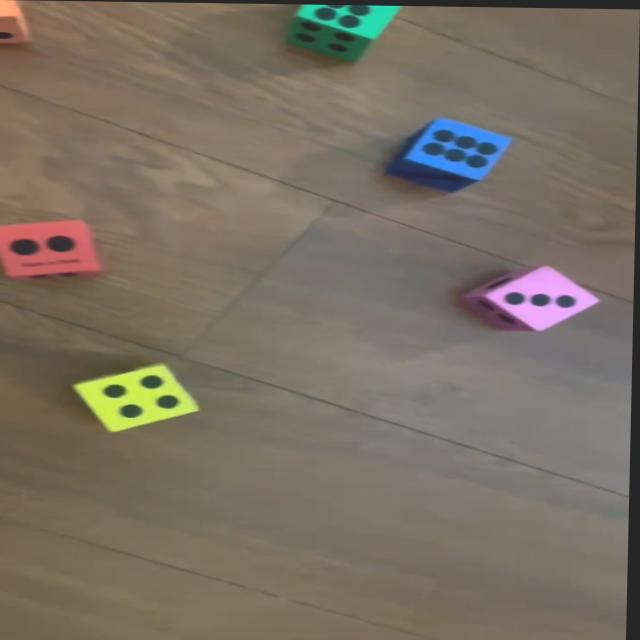blue_block: (390, 116, 513, 193)
red_block: (0, 218, 104, 279)
